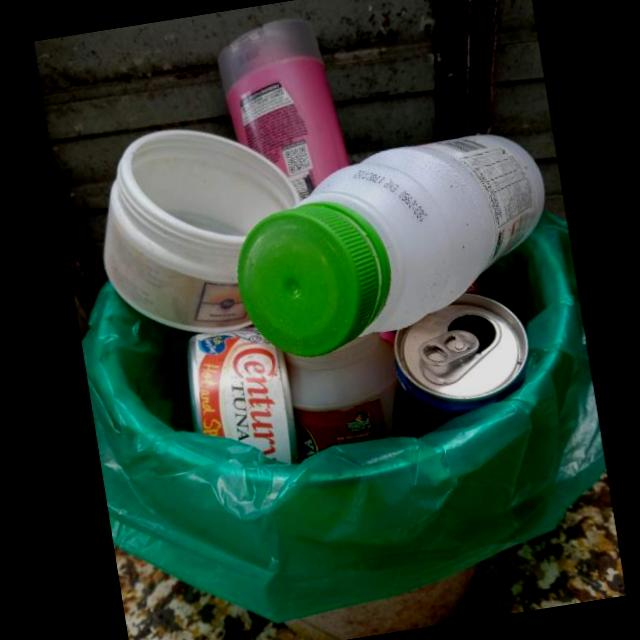chai_nhua: (237, 135, 544, 356), (105, 130, 302, 331), (217, 18, 351, 198)
nhom: (394, 291, 528, 439), (188, 322, 298, 463)
